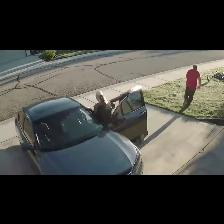person: (87, 91, 114, 125), (183, 65, 201, 106)
